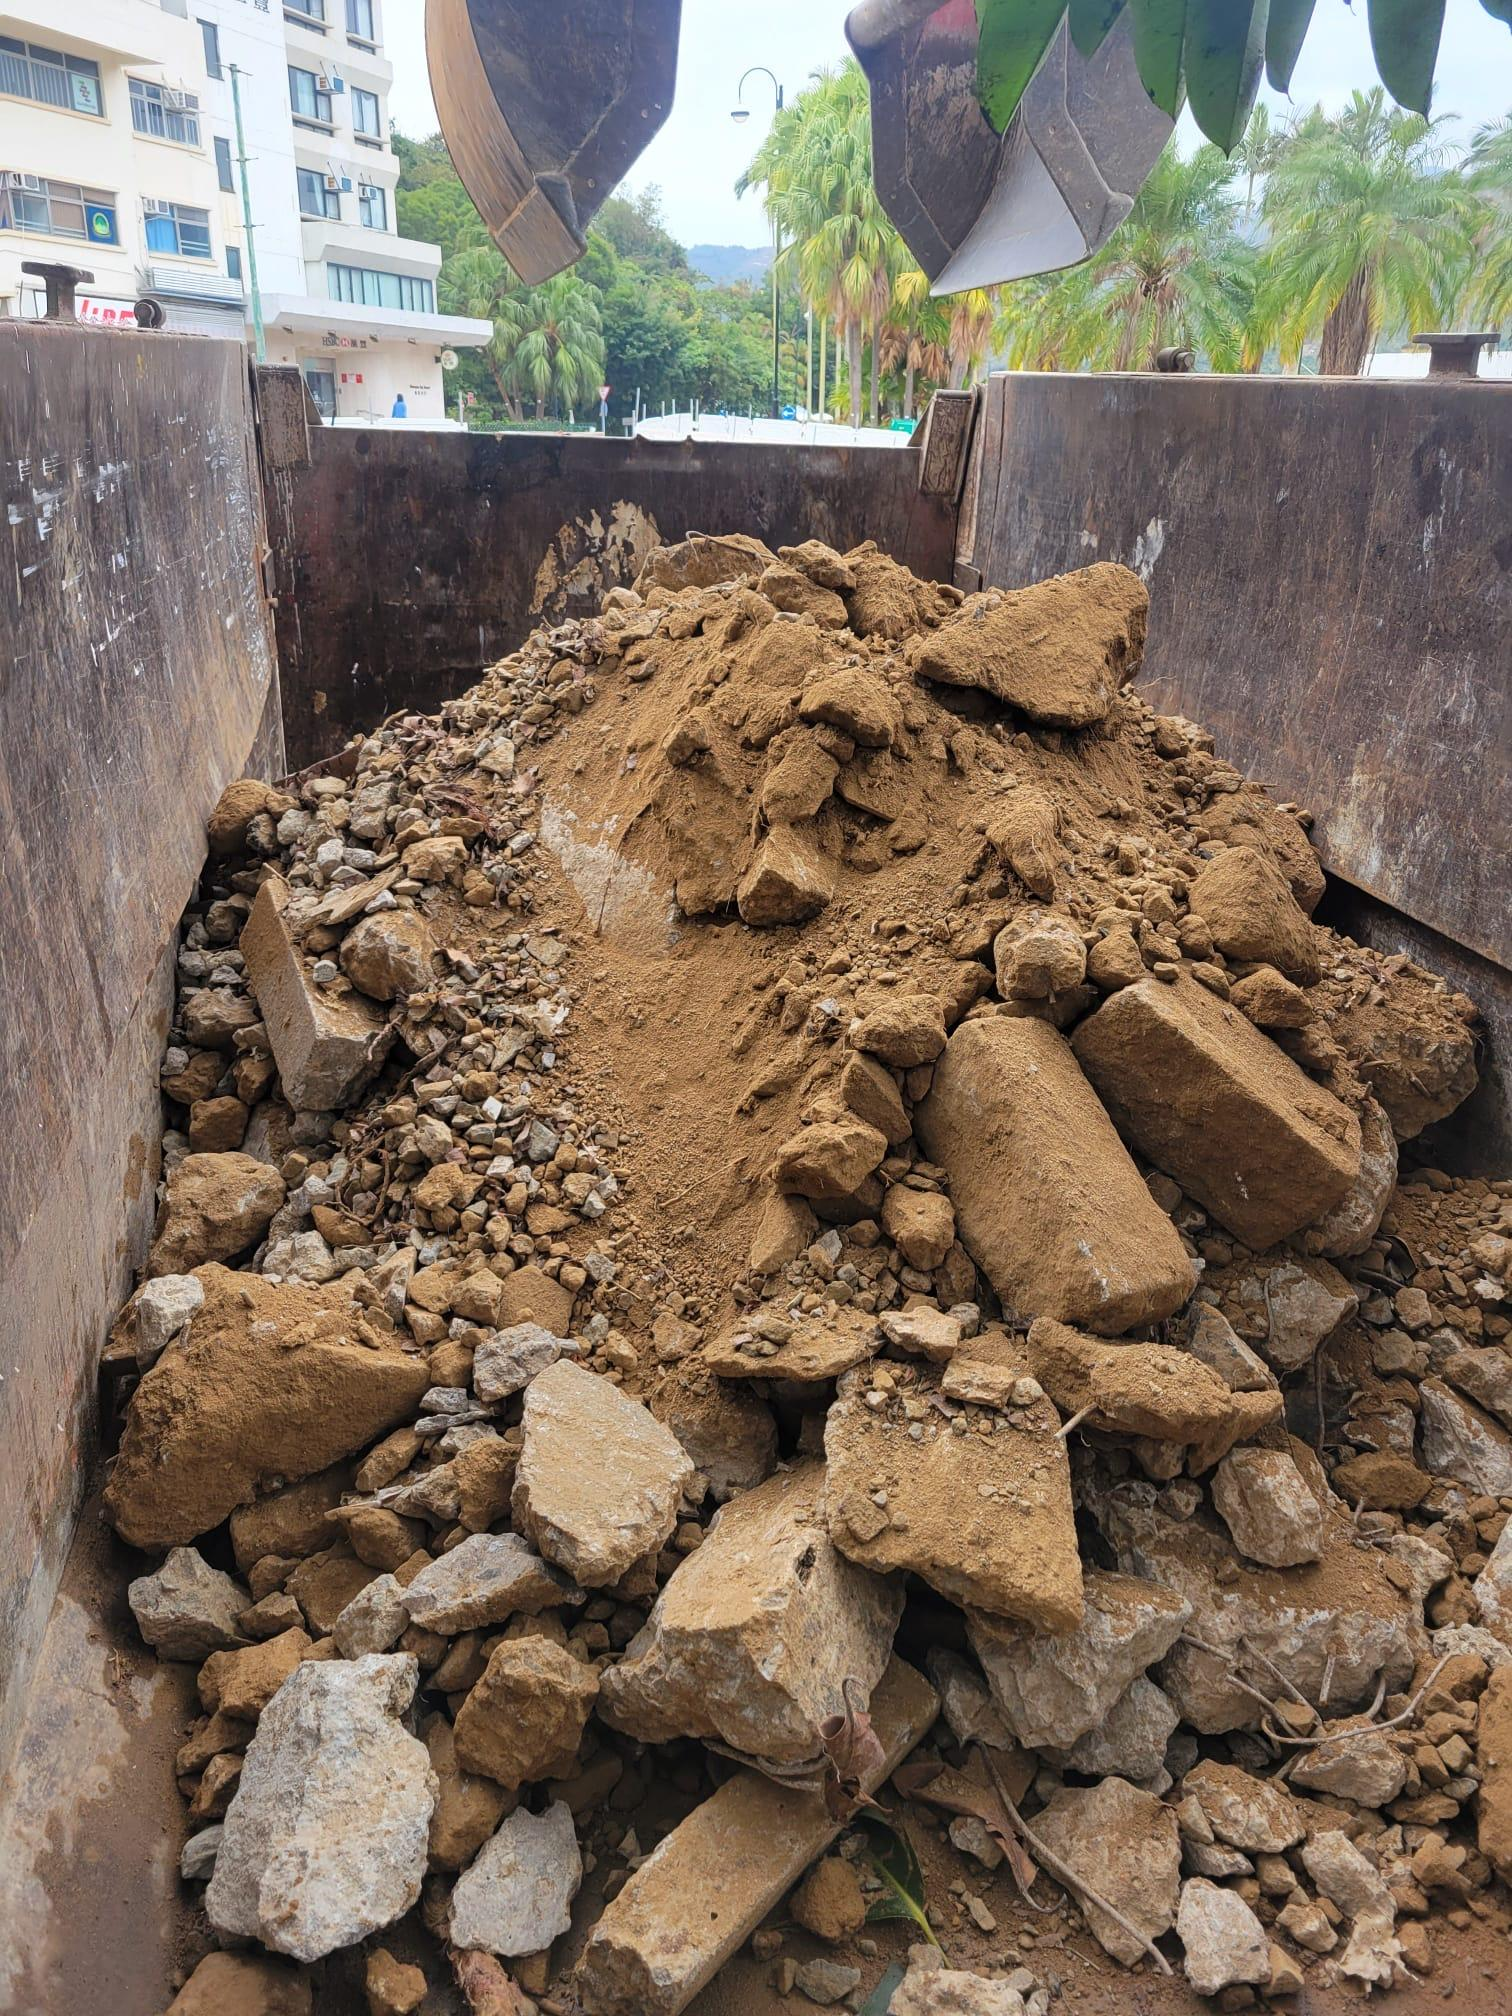dry: (283, 664, 1353, 1837)
